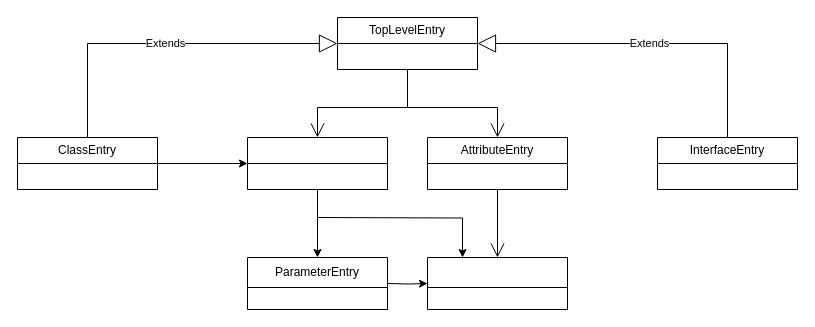
This 815x327 diagram has some shape labels left out. Each missing label, with the centre of its shape:
"MethodEntry" belongs at (x=317, y=163).
"Type" belongs at (x=497, y=283).
